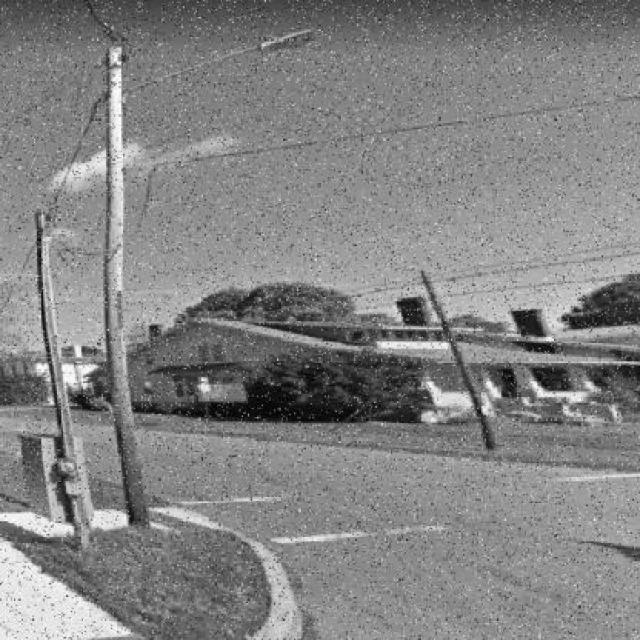pole: (40, 15, 237, 559)
